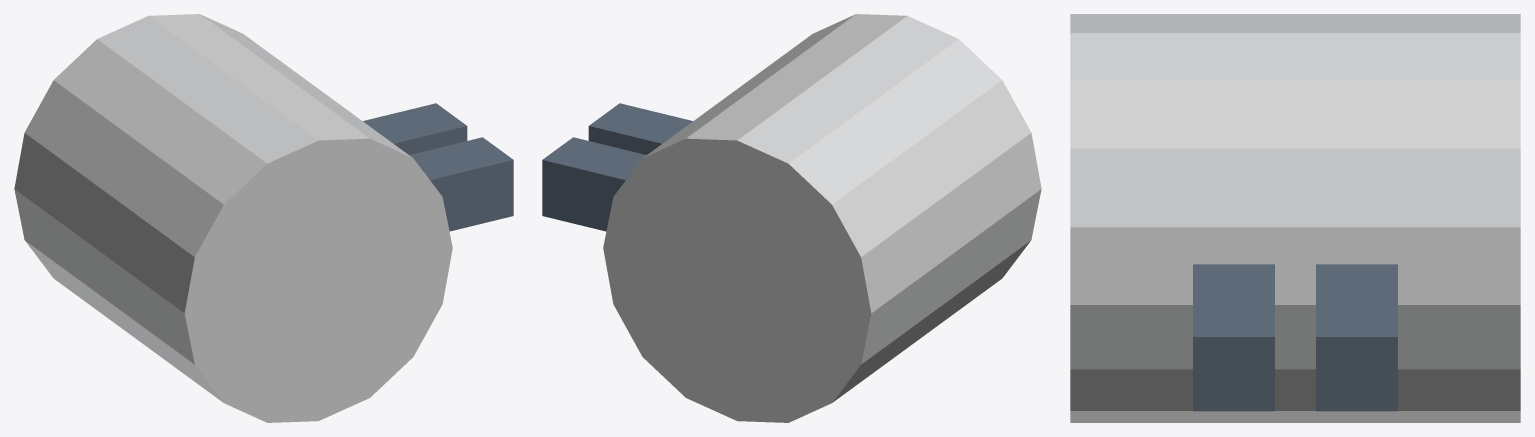
Rendered from mug.glb.
3 renders of one model, left to right at view 1: azimuth 30°, elevation 25°; view 2: azimuth 150°, elevation 25°; view 3: azimuth 270°, elevation 25°, orthographic. The views are drawn at different scales.
Parts seen in each view (by area): view 1: cup, handle_top, handle_bottom; view 2: cup, handle_bottom, handle_top; view 3: cup, handle_top, handle_bottom.
Part boxes in pixels (box(x1,y1,x2,y2)): cup: box(14, 14, 452, 422); handle_top: box(409, 137, 513, 231); handle_bottom: box(363, 103, 467, 154); cup: box(603, 14, 1041, 422); handle_bottom: box(542, 137, 646, 231); handle_top: box(588, 103, 692, 154); cup: box(1070, 14, 1520, 422); handle_top: box(1193, 264, 1274, 411); handle_bottom: box(1316, 264, 1397, 411).
Bounding box in the file's own units: 0.28 × 0.2 × 0.22.
